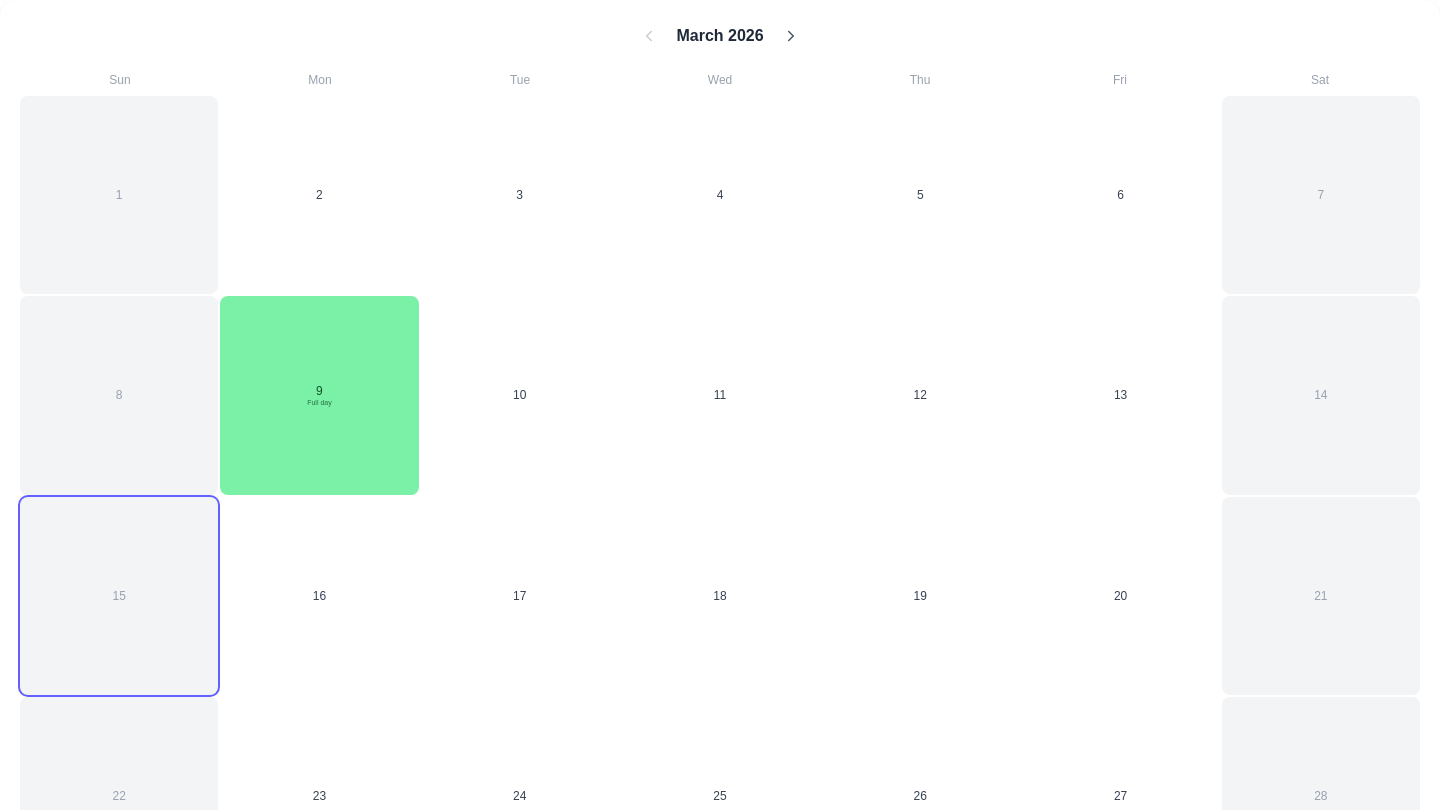
it: CalendarView — half-day popover shows duration label › shows working day count for a full-day entry in the popover
Click the text "9". click: x=319, y=391
box: [316,383,323,399]
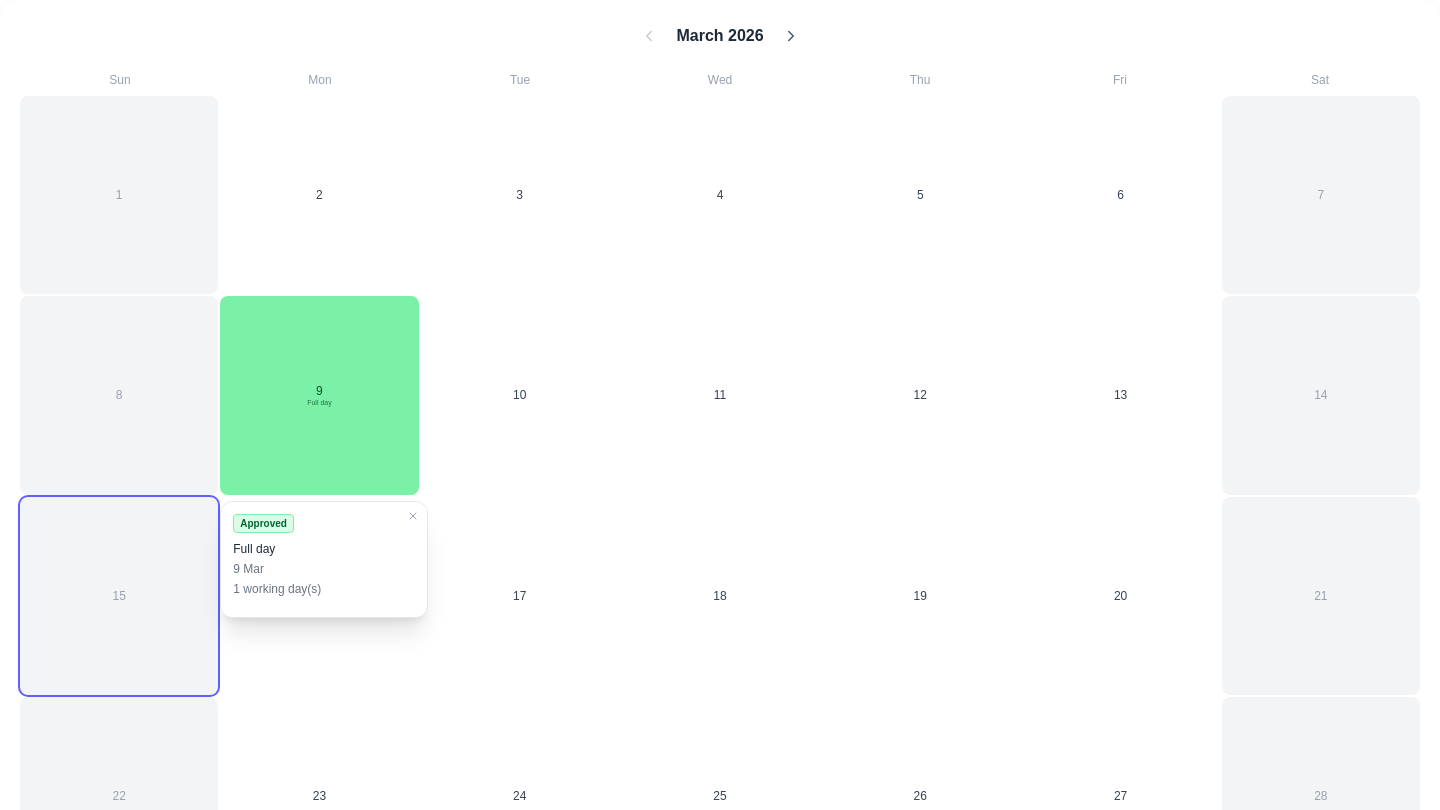
Now the tooltip "Approved Full day 9 Mar 1 working day(s)" is shown, box [220,501,428,618]
Now the text "1 working day(s)" is shown, box [233,582,321,596]
